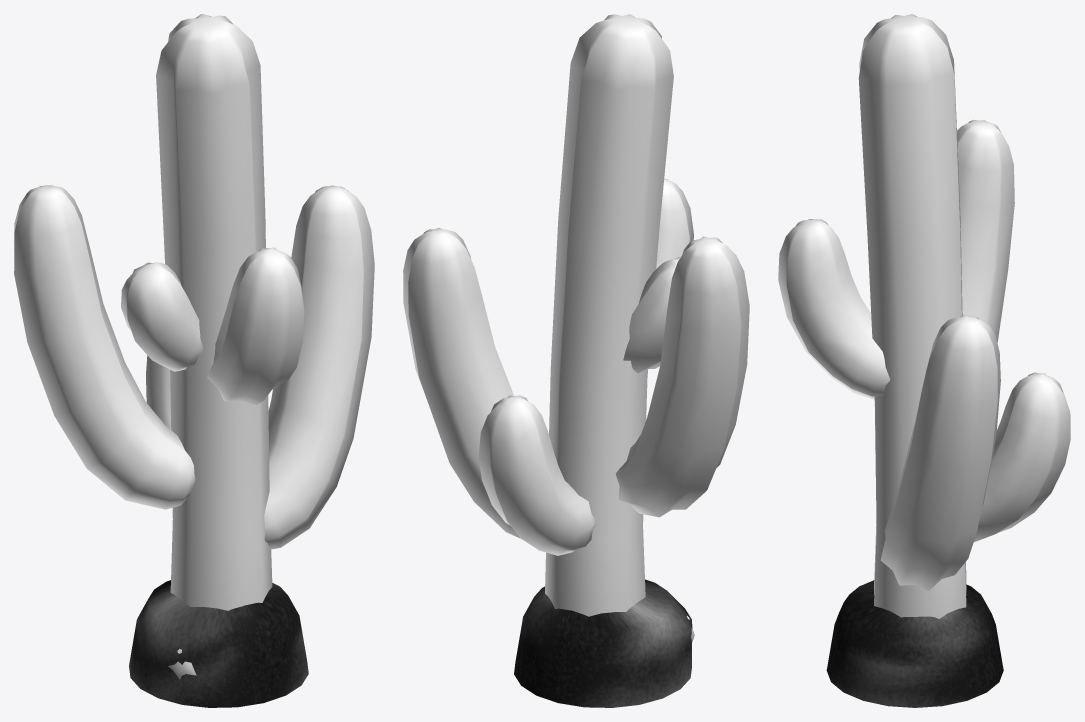
File: WildWestCacti.glb
3 renders of one model, left to right at view 1: azimuth 30°, elevation 25°; view 2: azimuth 150°, elevation 25°; view 3: azimuth 270°, elevation 25°, orthographic. The views are drawn at different scales.
Visible parts, largest first — view 1: BarrierHologram, SmokeCacti; view 2: BarrierHologram, SmokeCacti; view 3: BarrierHologram, SmokeCacti.
Boxes of the visible parts, box(x1,y1,x2,y2) form: BarrierHologram: box(14, 14, 374, 679); SmokeCacti: box(129, 580, 308, 707); BarrierHologram: box(403, 14, 749, 642); SmokeCacti: box(514, 579, 691, 707); BarrierHologram: box(778, 14, 1070, 618); SmokeCacti: box(826, 580, 1003, 707).
Size of the model in its own units: 0.8503 by 1.55 by 0.64.
Materials: 3 (2 with a texture image).
